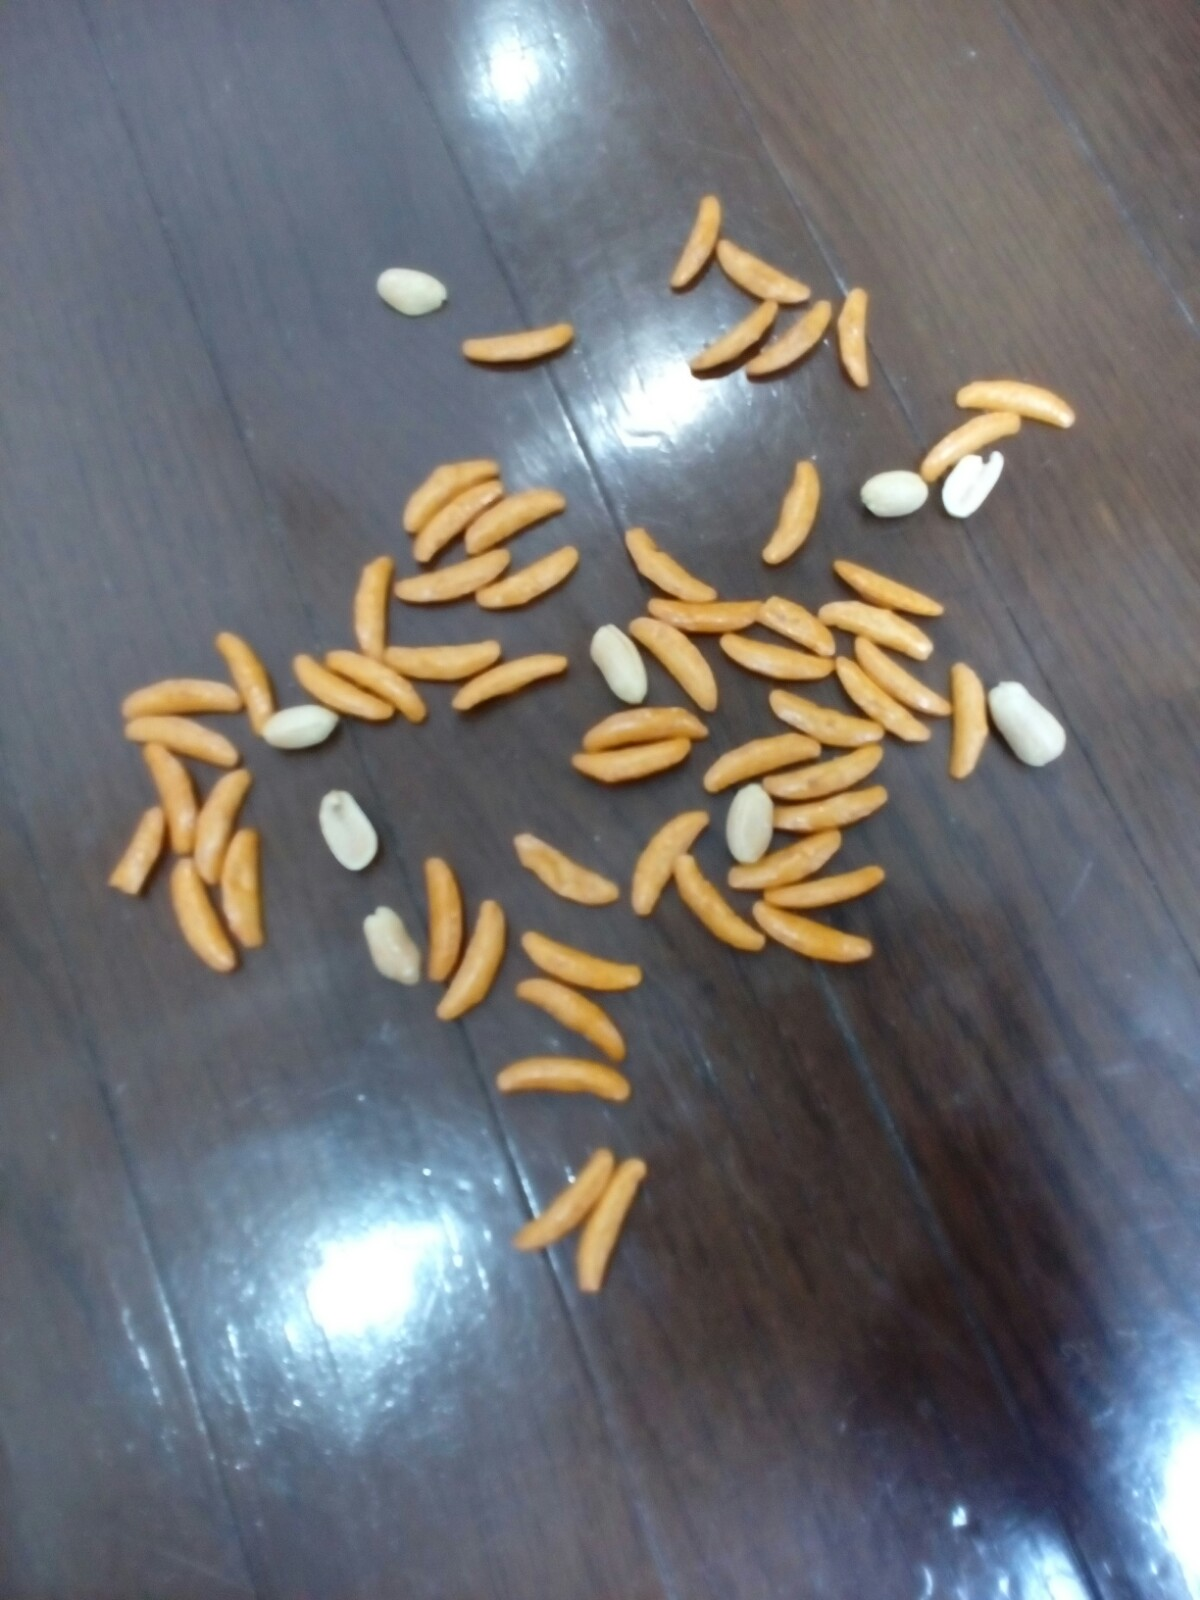peanut: (982, 678, 1076, 779), (582, 614, 661, 716), (355, 897, 434, 993), (939, 446, 1024, 533), (311, 787, 382, 879), (373, 257, 460, 328), (258, 697, 352, 753), (720, 779, 776, 871), (856, 464, 939, 517)
